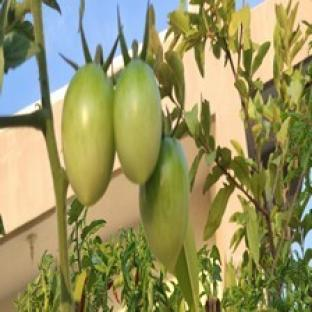Tomato: (62, 65, 115, 206), (140, 137, 189, 271), (115, 59, 161, 183)
